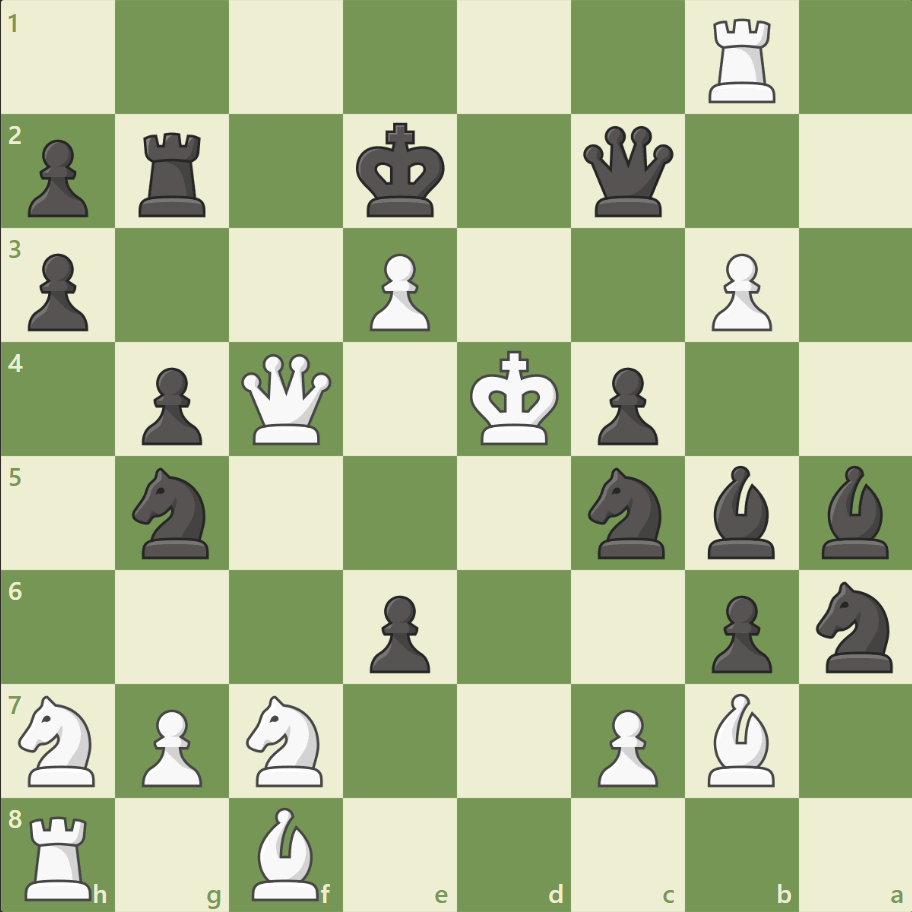B: (244, 801, 328, 904), (698, 687, 782, 790)
K: (465, 344, 565, 452)
N: (238, 688, 335, 791), (11, 688, 108, 791)
P: (133, 700, 208, 791), (701, 246, 776, 337), (588, 700, 662, 791), (361, 246, 435, 337)
Q: (237, 349, 336, 449)
R: (19, 806, 102, 904), (700, 12, 783, 109)
b: (812, 460, 896, 563), (698, 460, 782, 563)
k: (351, 117, 451, 225)
n: (124, 461, 222, 564), (579, 461, 676, 564), (806, 575, 903, 677)
p: (701, 586, 776, 677), (133, 359, 208, 450), (20, 246, 95, 337), (20, 132, 95, 223), (361, 586, 435, 677), (588, 359, 662, 450)
q: (578, 122, 677, 222)
r: (133, 125, 215, 222)
